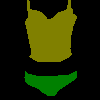mutande: (24, 70, 77, 96)
reggiseno: (25, 0, 77, 62)
